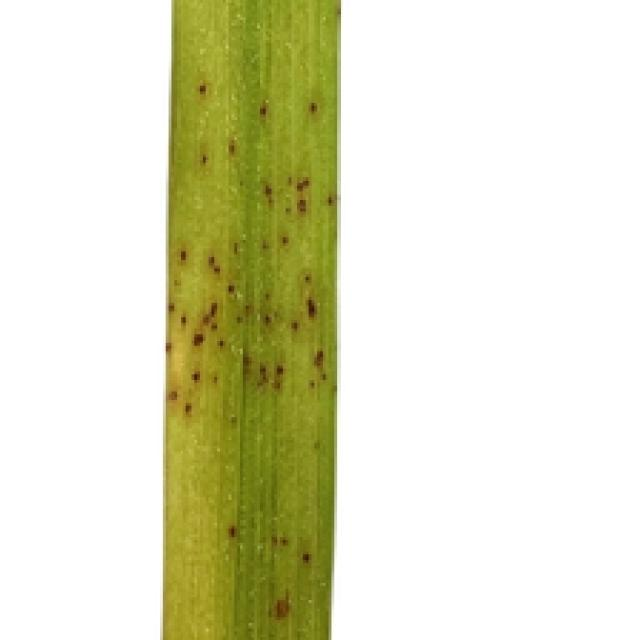Rice___Brown_Spot: (161, 0, 340, 637)
